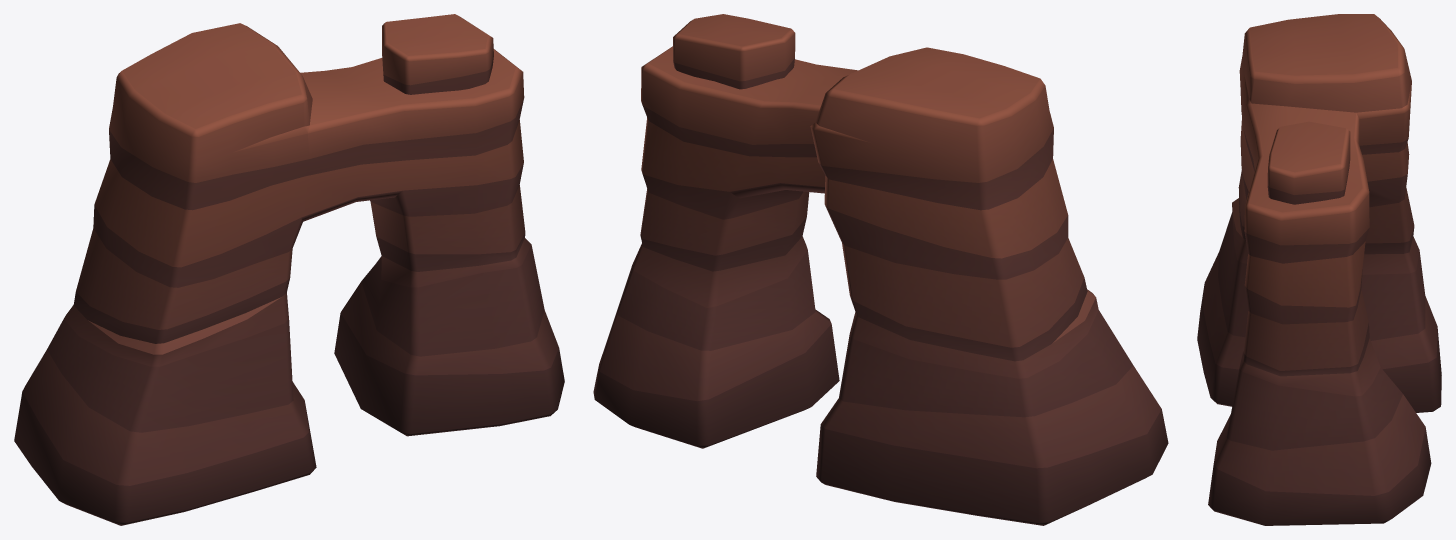
Rendered from rock_formation_02.fbx.
The picture shows the model from 3 angles, left to right: view 1: azimuth 30°, elevation 25°; view 2: azimuth 150°, elevation 25°; view 3: azimuth 270°, elevation 25°; orthographic projection. The views are drawn at different scales.
Visible parts, largest first — view 1: rock_formation_02; view 2: rock_formation_02; view 3: rock_formation_02.
Part boxes in pixels (x1,y1,x2,y2): rock_formation_02: [14, 14, 564, 525]; rock_formation_02: [593, 14, 1168, 525]; rock_formation_02: [1197, 14, 1441, 525].
Bounding box in the file's own units: 1178 × 847 × 535.
